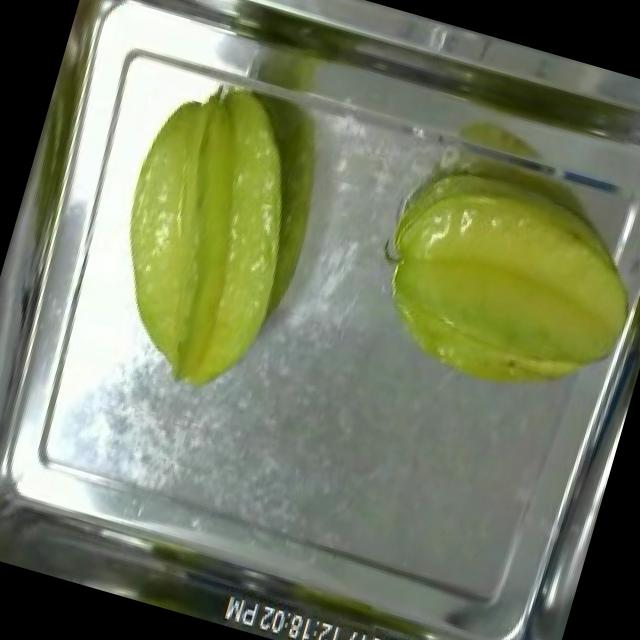fruit: (77, 54, 340, 412), (347, 137, 640, 428)
